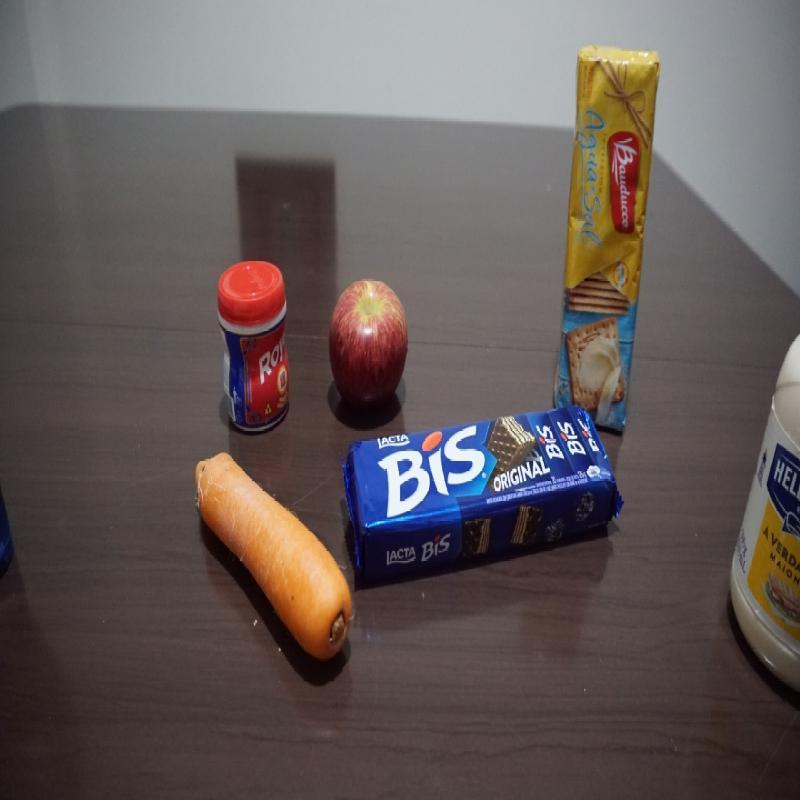Apple: (326, 273, 410, 413)
Carrot: (194, 451, 354, 669)
Cracker: (550, 46, 662, 440)
Mayonnaise: (726, 318, 800, 696)
Yeast: (214, 255, 292, 437)
